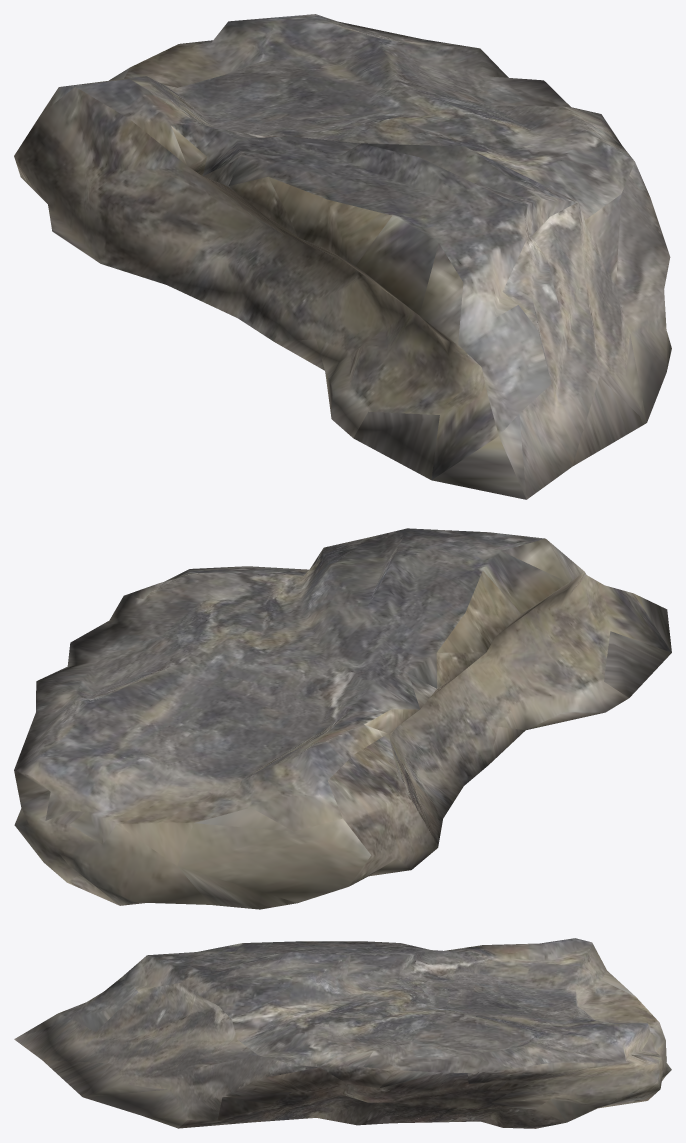
The model's file is slab_b_lod2.glb.
3 views of the same model, one above another, from view 1: azimuth 30°, elevation 25°; view 2: azimuth 150°, elevation 25°; view 3: azimuth 270°, elevation 25° (orthographic). The views are drawn at different scales.
Visible parts, largest first — view 1: slab_b_lod2; view 2: slab_b_lod2; view 3: slab_b_lod2.
Boxes of the visible parts, x1=… form: slab_b_lod2: x1=14, y1=14, x2=671, y2=499; slab_b_lod2: x1=14, y1=528, x2=671, y2=909; slab_b_lod2: x1=14, y1=938, x2=671, y2=1128.
Size of the model in its own units: 4.45 by 1.72 by 8.59.
Materials: 1 (1 with a texture image).
